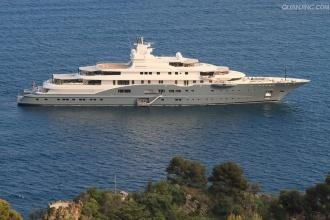yacht: (15, 34, 311, 106)
